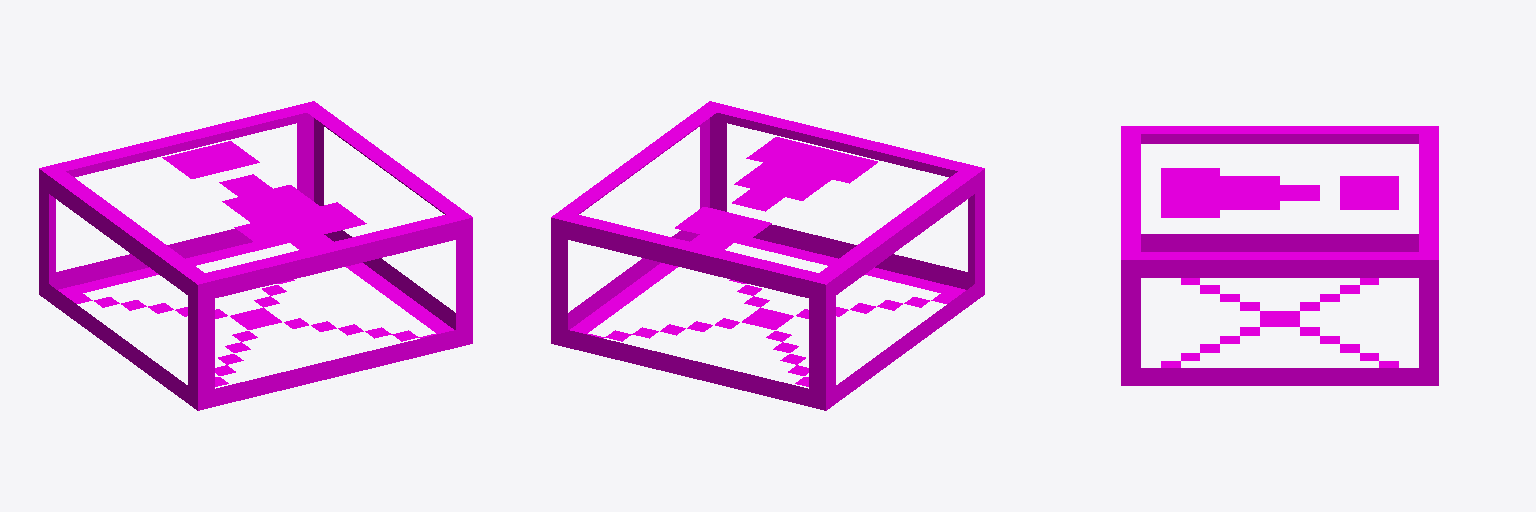
3 renders of one model, left to right at view 1: azimuth 30°, elevation 25°; view 2: azimuth 150°, elevation 25°; view 3: azimuth 270°, elevation 25°, orthographic.
Visible parts, largest first — view 1: cube; view 2: cube; view 3: cube.
Part boxes in pixels (bbox=[...]): cube: bbox=[39, 101, 472, 410]; cube: bbox=[551, 101, 984, 410]; cube: bbox=[1121, 126, 1438, 385].
Size of the model in its own units: 1 by 0.4375 by 1.
Materials: 1 (1 with a texture image).